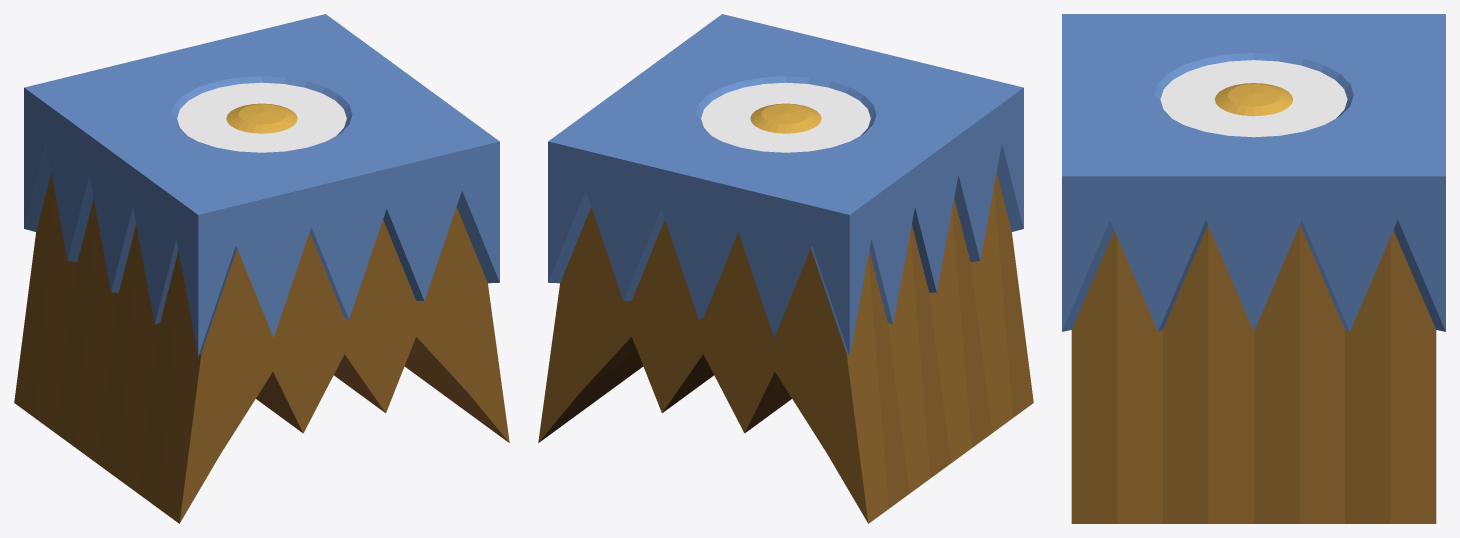
File: ClawBlock1x1.fbx
3 renders of one model, left to right at view 1: azimuth 30°, elevation 25°; view 2: azimuth 150°, elevation 25°; view 3: azimuth 270°, elevation 25°, orthographic. The views are drawn at different scales.
Parts seen in each view (by area): view 1: ClawBlock1x1, Eye.005; view 2: ClawBlock1x1, Eye.005; view 3: ClawBlock1x1, Eye.005.
Part boxes in pixels (left/top/right/bottom): ClawBlock1x1: left=14, top=14, right=509, bottom=523; Eye.005: left=226, top=103, right=297, bottom=133; ClawBlock1x1: left=538, top=14, right=1033, bottom=523; Eye.005: left=750, top=103, right=821, bottom=133; ClawBlock1x1: left=1062, top=14, right=1445, bottom=523; Eye.005: left=1214, top=83, right=1293, bottom=116.
Size of the model in its own units: 1.09 by 0.9831 by 1.
